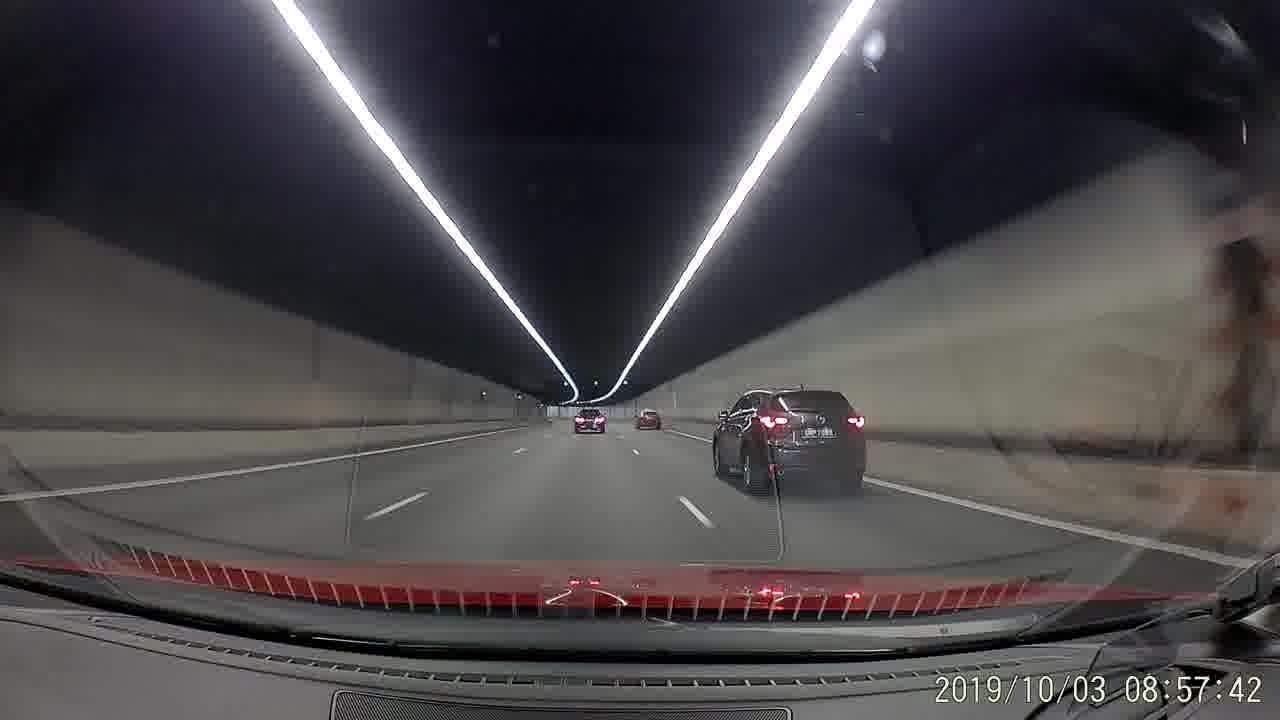car: (708, 383, 866, 496), (571, 405, 608, 437), (632, 406, 661, 430)
